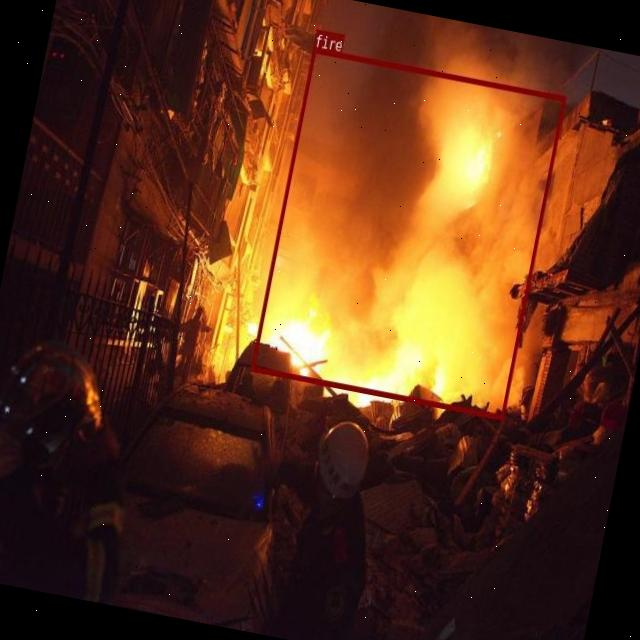fire: (250, 46, 566, 418)
